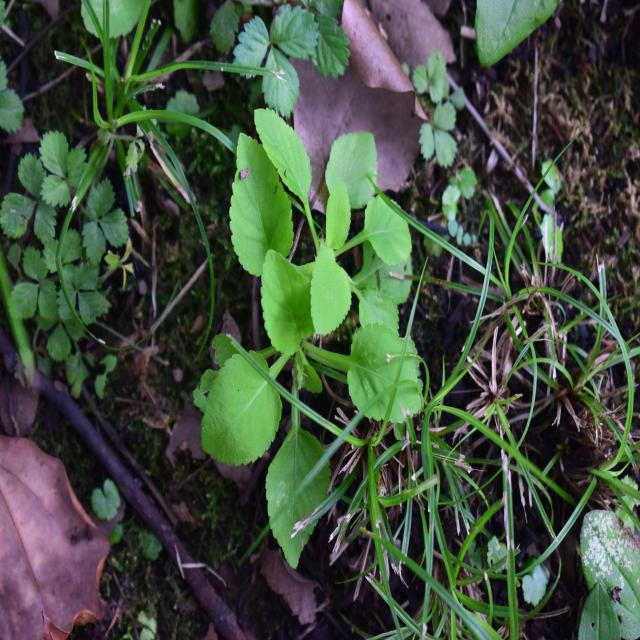Viola: (223, 238, 427, 494), (233, 103, 416, 307)
